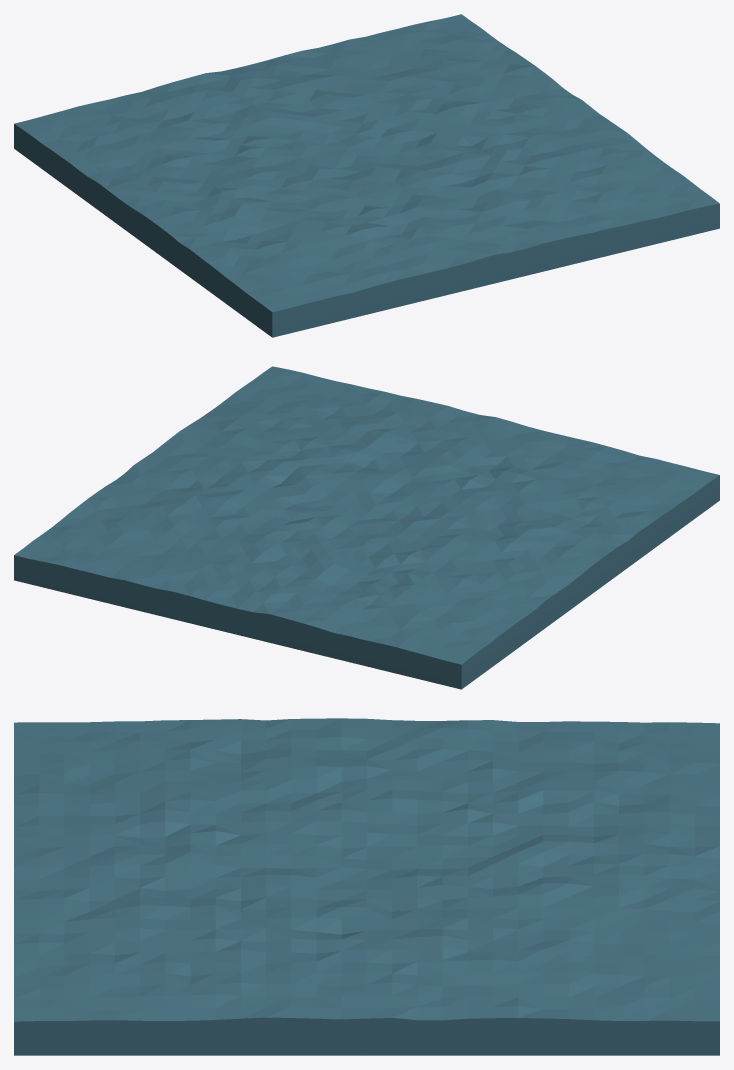
File: water.glb
3 views of the same model, one above another, from view 1: azimuth 30°, elevation 25°; view 2: azimuth 150°, elevation 25°; view 3: azimuth 270°, elevation 25° (orthographic). The views are drawn at different scales.
Parts seen in each view (by area): view 1: water; view 2: water; view 3: water.
Boxes of the visible parts, box(x1,y1,x2,y2) form: water: box(14, 14, 719, 337); water: box(14, 366, 719, 689); water: box(14, 718, 719, 1055).
Bounding box in the file's own units: 62.59 × 4.4 × 62.59.
Materials: 1 (1 with a texture image).
